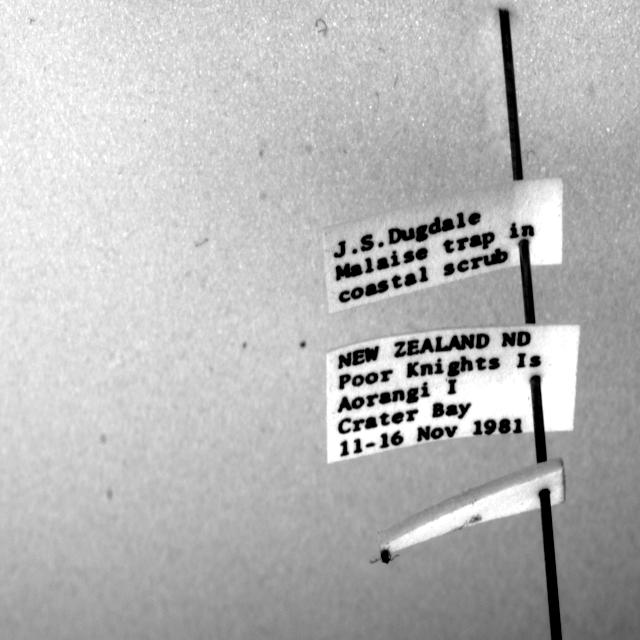typed_label: (326, 324, 580, 463), (324, 178, 562, 313)
